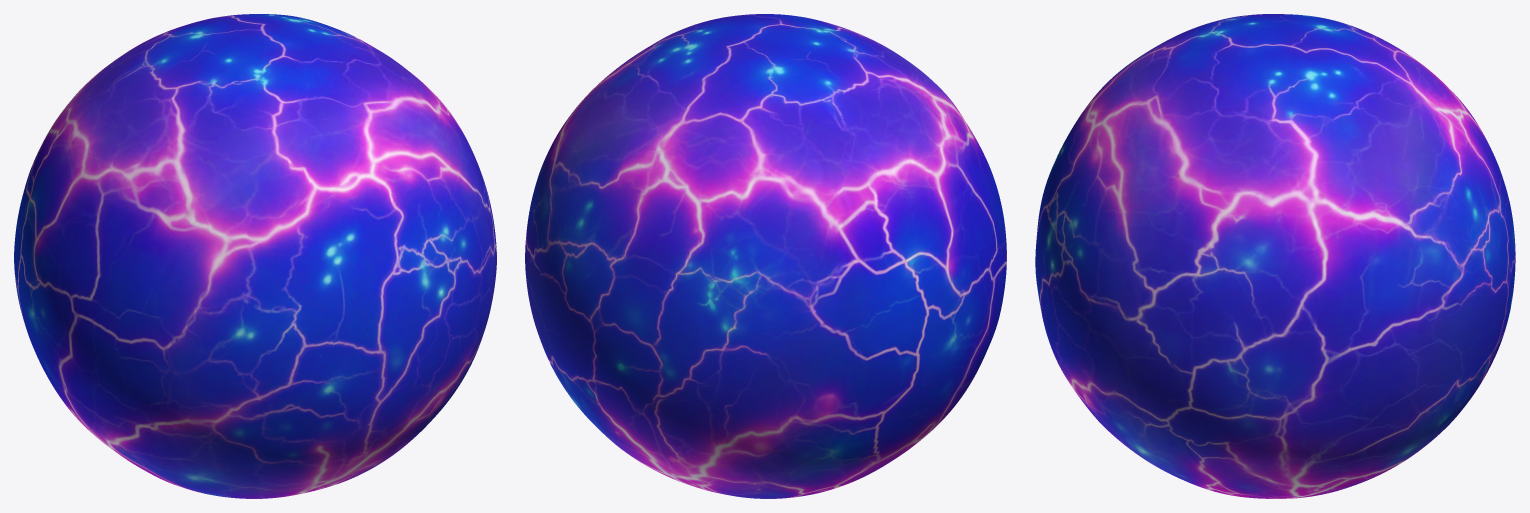
File: Boss_Orb_5_Plasma_Orb_Texture_1784483538234.glb
The picture shows the model from 3 angles, left to right: view 1: azimuth 30°, elevation 25°; view 2: azimuth 150°, elevation 25°; view 3: azimuth 270°, elevation 25°; orthographic projection.
Bounding box in the file's own units: 2 × 2 × 2.
Materials: 1 (1 with a texture image).
